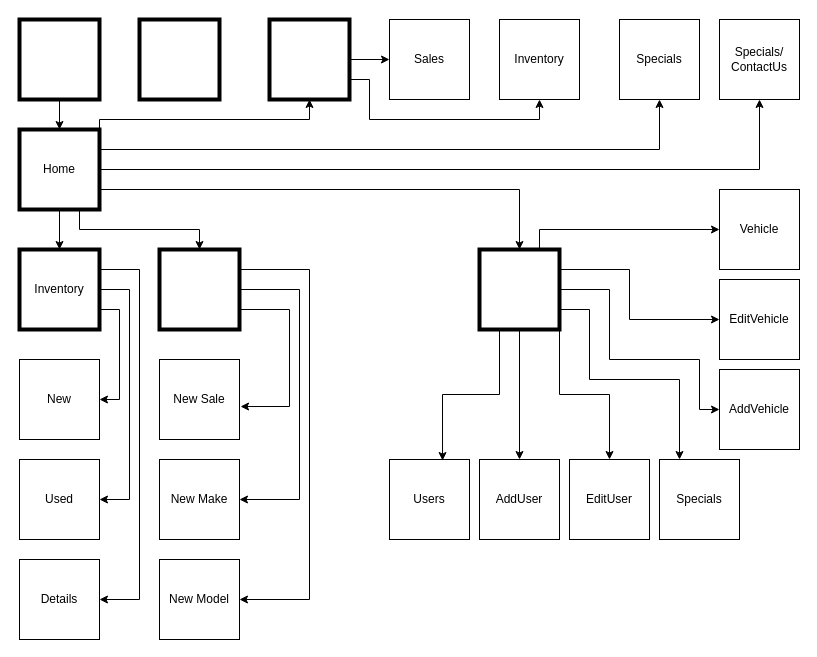
Image size: 817x657. Some labels were removed from this diagram. The centre of each missing label's shape, as x and y in pixels:
"Account (Bookmarked)" belongs at point 179,59.
"Admin" belongs at point 519,289.
"Login" belongs at point 59,59.
"Reports" belongs at point 309,59.
"Sales Search Results" belongs at point 199,289.
